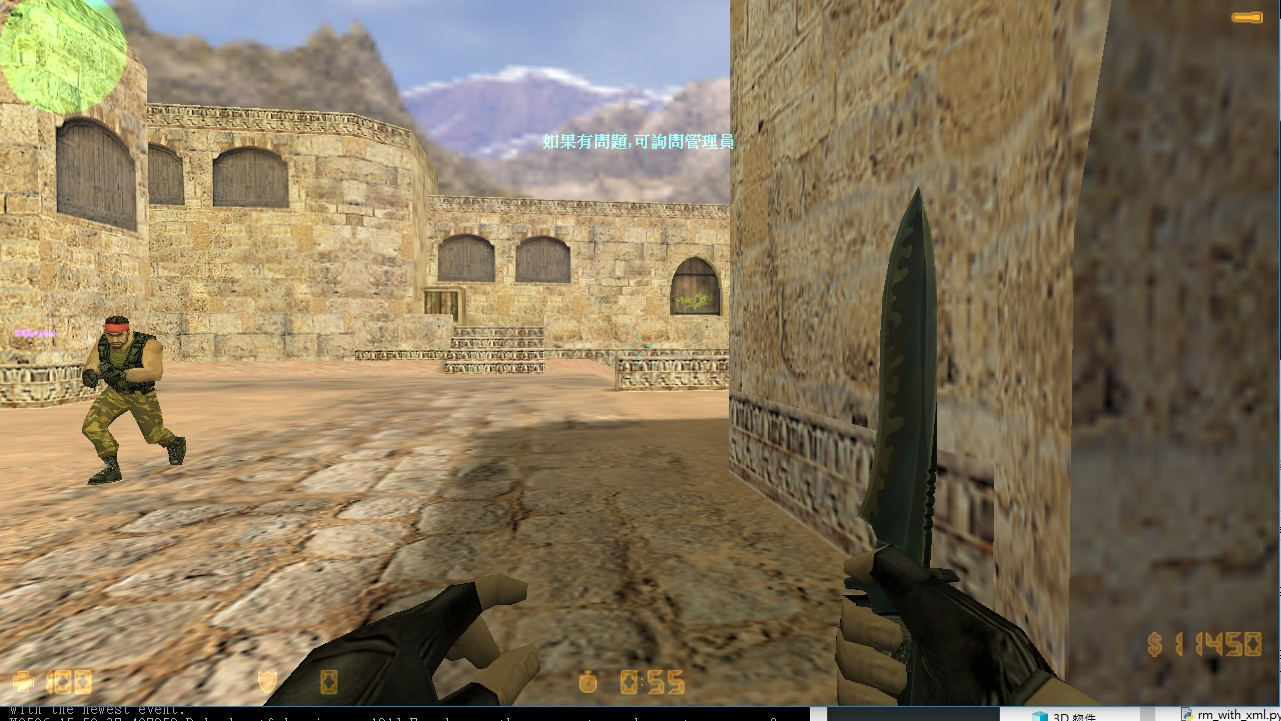person: (73, 313, 206, 487)
